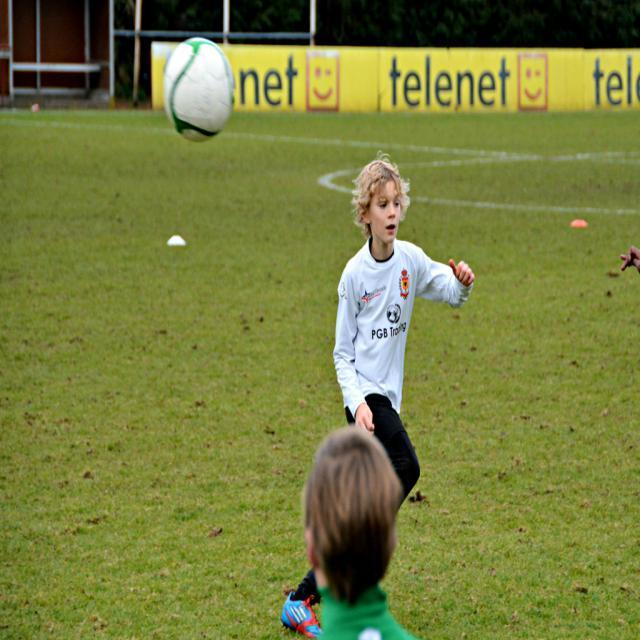football: (145, 31, 246, 163)
